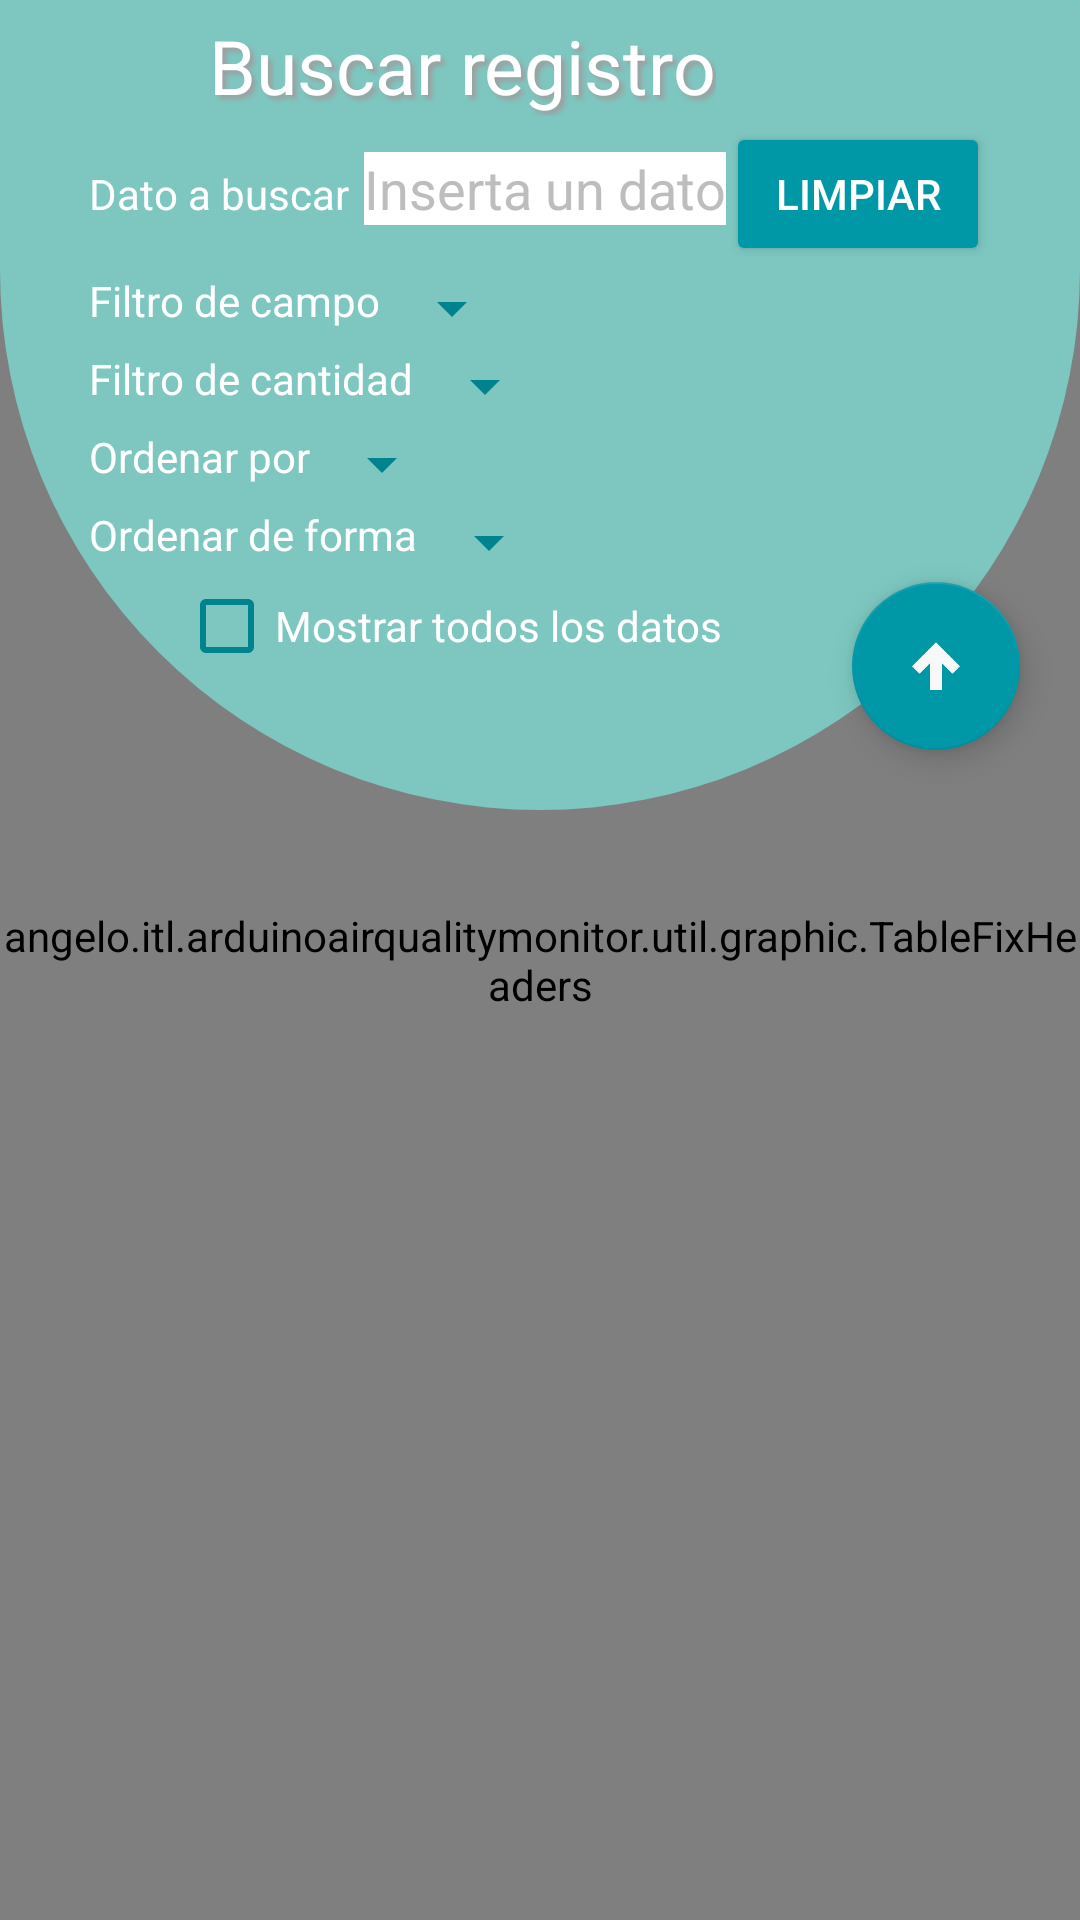

Where to tap for icons on this 1080×1920 app screen, as (x=x, y=y):
arrow up: (x=936, y=666)
